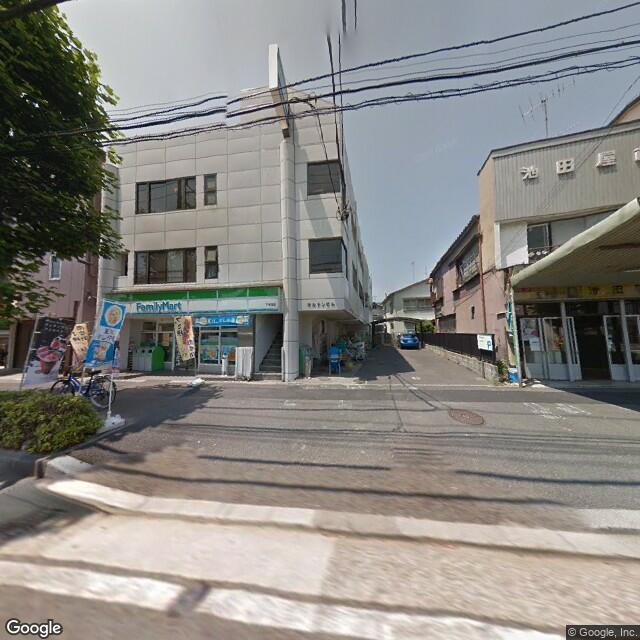family_mart: (113, 285, 280, 317), (135, 296, 185, 315)
